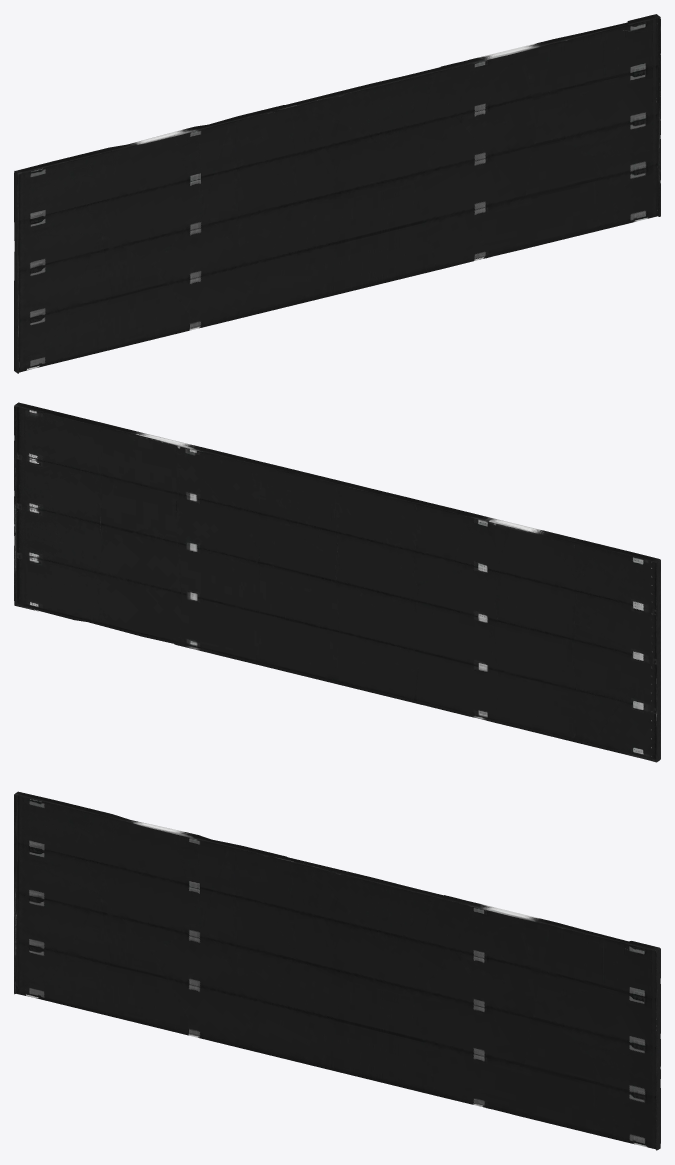
Rendered from door-panel.glb.
3 views of the same model, one above another, from view 1: azimuth 30°, elevation 25°; view 2: azimuth 150°, elevation 25°; view 3: azimuth 330°, elevation 25° (orthographic).
Visible parts, largest first — view 1: output_unwrapped; view 2: output_unwrapped; view 3: output_unwrapped.
Part boxes in pixels (x1,y1,x2,y2): output_unwrapped: (14, 14, 660, 373); output_unwrapped: (14, 402, 660, 762); output_unwrapped: (14, 791, 660, 1150).
Size of the model in its own units: 1.9 by 0.5684 by 0.0221.
1 material, 1 textured.
